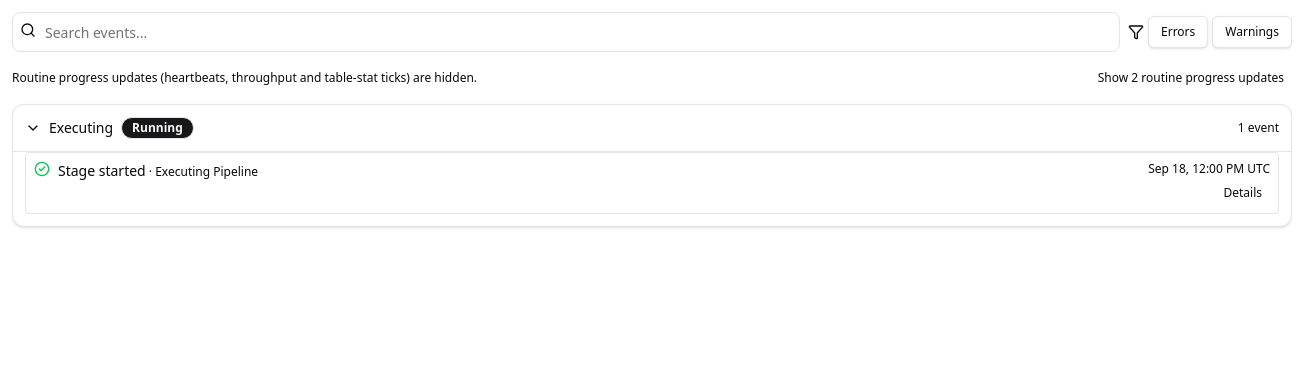
Activity hides the noise the producer already flagged (F-274) › discloses how many rows it hid, and hands them back on request
Click the button "Show 2 routine progress updates": coordinates (1191, 78) [1090, 64, 1292, 92]
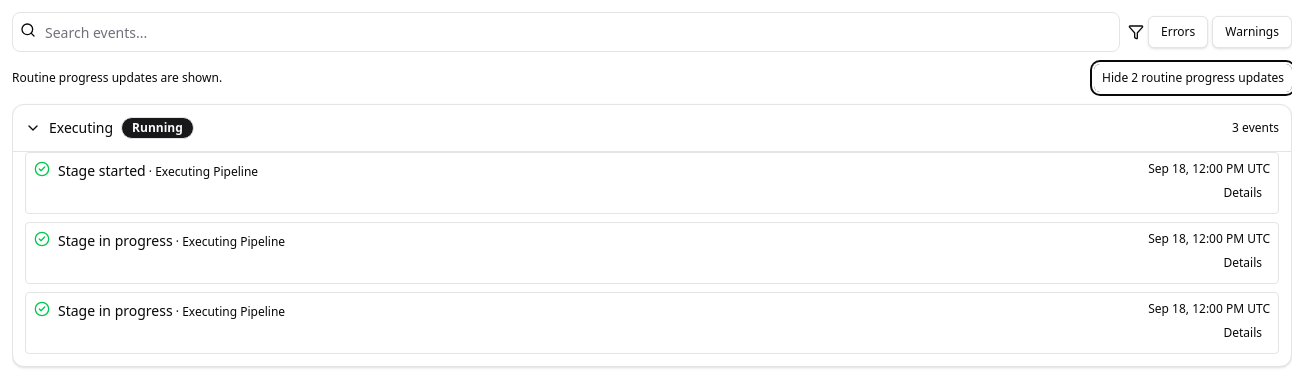
Check: the text "Stage in progress" is shown 2 times, box [58, 231, 173, 250]; [58, 301, 173, 320]
Check: the button "Hide 2 routine progress updates" is shown, box [1094, 64, 1292, 92]
